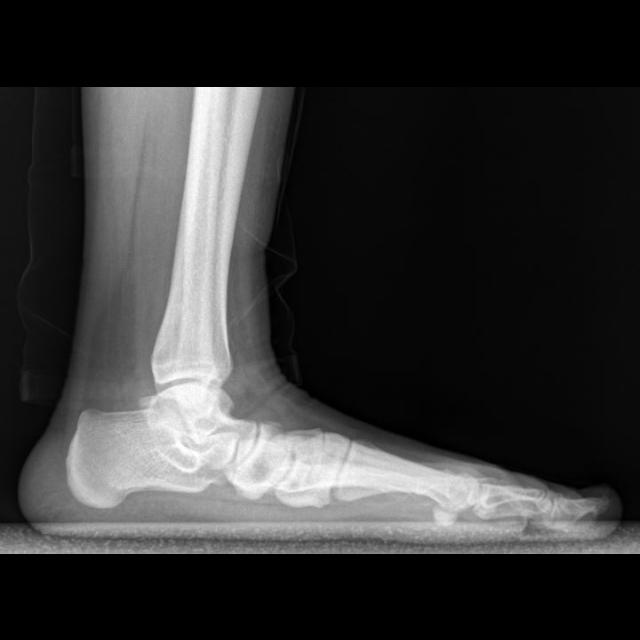a: (68, 406, 236, 508)
b: (233, 421, 290, 493)
c: (335, 441, 479, 509)
